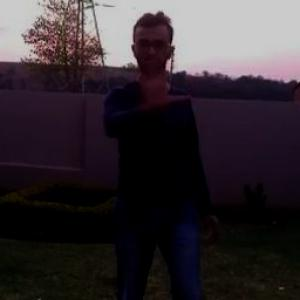follow_hand: (130, 51, 191, 112)
